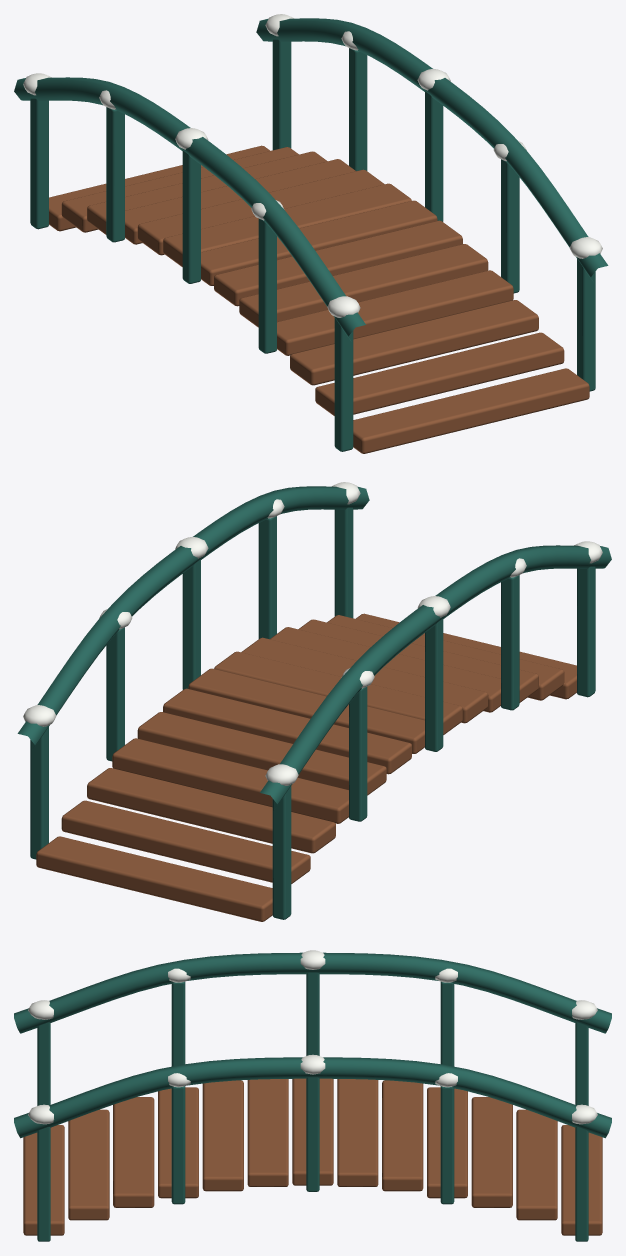
Rendered from christmas-storybook-arched-footbridge-1dcb79a8__18722.glb.
The picture shows the model from 3 angles, top to bottom: view 1: azimuth 30°, elevation 25°; view 2: azimuth 150°, elevation 25°; view 3: azimuth 270°, elevation 25°; orthographic projection. The views are drawn at different scales.
Visible parts, largest first — view 1: oak, pine, cream; view 2: oak, pine, cream; view 3: oak, pine, cream.
Boxes of the visible parts, x1,y1,x2,y2 form: oak: (49, 145, 589, 453); pine: (14, 18, 608, 451); cream: (23, 14, 602, 317); oak: (36, 613, 576, 921); pine: (17, 486, 611, 919); cream: (23, 482, 602, 785); oak: (23, 1078, 602, 1235); pine: (14, 952, 611, 1241); cream: (28, 950, 597, 1124).
Bounding box in the file's own units: 1.54 × 1.13 × 3.34.
